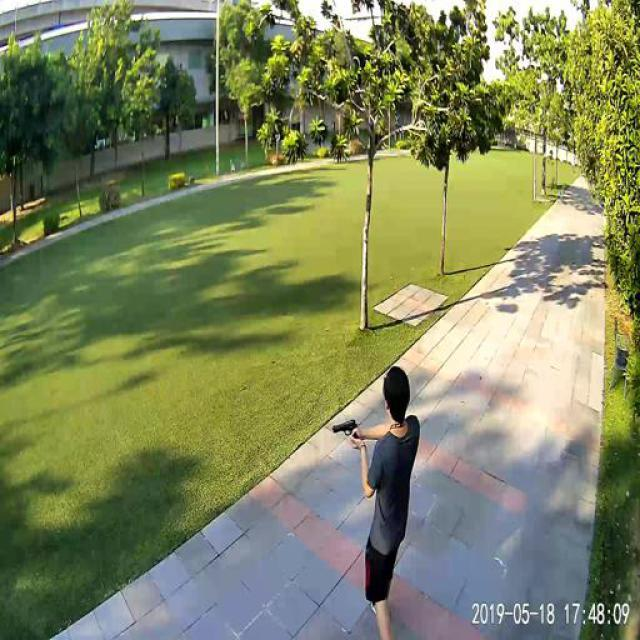Gun: (330, 416, 356, 435)
